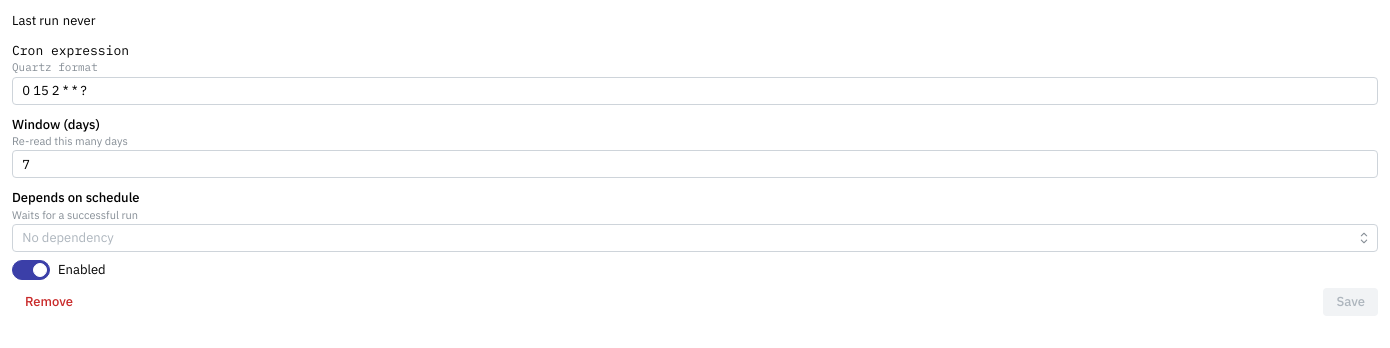
it: CollectionScheduleTab › прибирання шле DELETE із версією показаного рядка й лише після підтвердження
Expected: the field labelled "Cron expression" holds "0 15 2 * * ?", [12, 76, 1378, 104]
What coordinates should you click on to do the following:
click the button "Remove"
I would click on:
 (49, 302)
Its box is [12, 288, 86, 316].
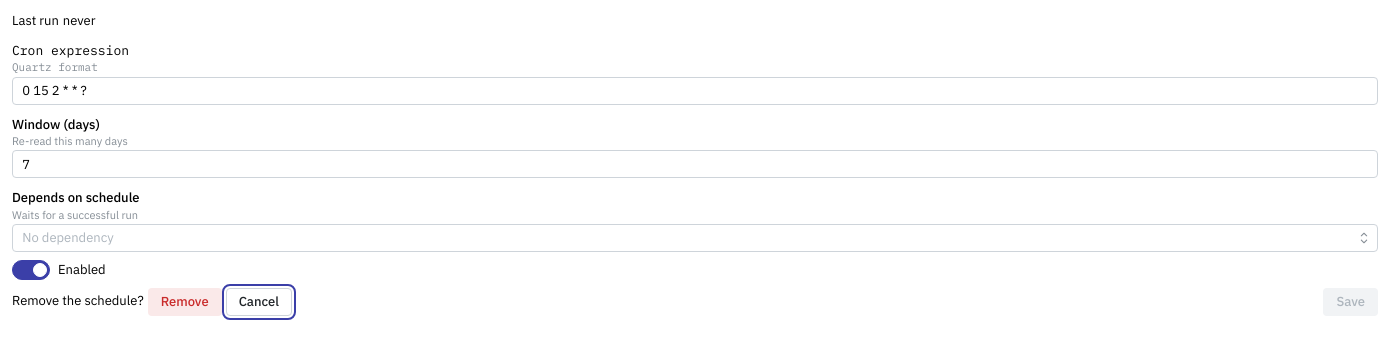
Now the text "Remove the schedule?" is shown, box [12, 292, 144, 311]
What coordinates should you click on to do the following:
click the button "Remove"
I would click on:
 (185, 302)
Its box is [148, 288, 222, 316].
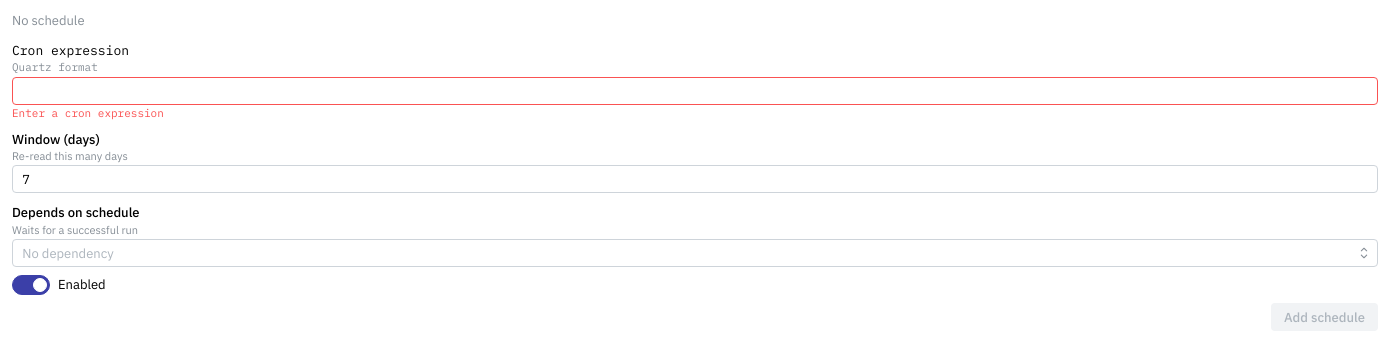
Now the text "No schedule" is shown, box [12, 12, 84, 29]
